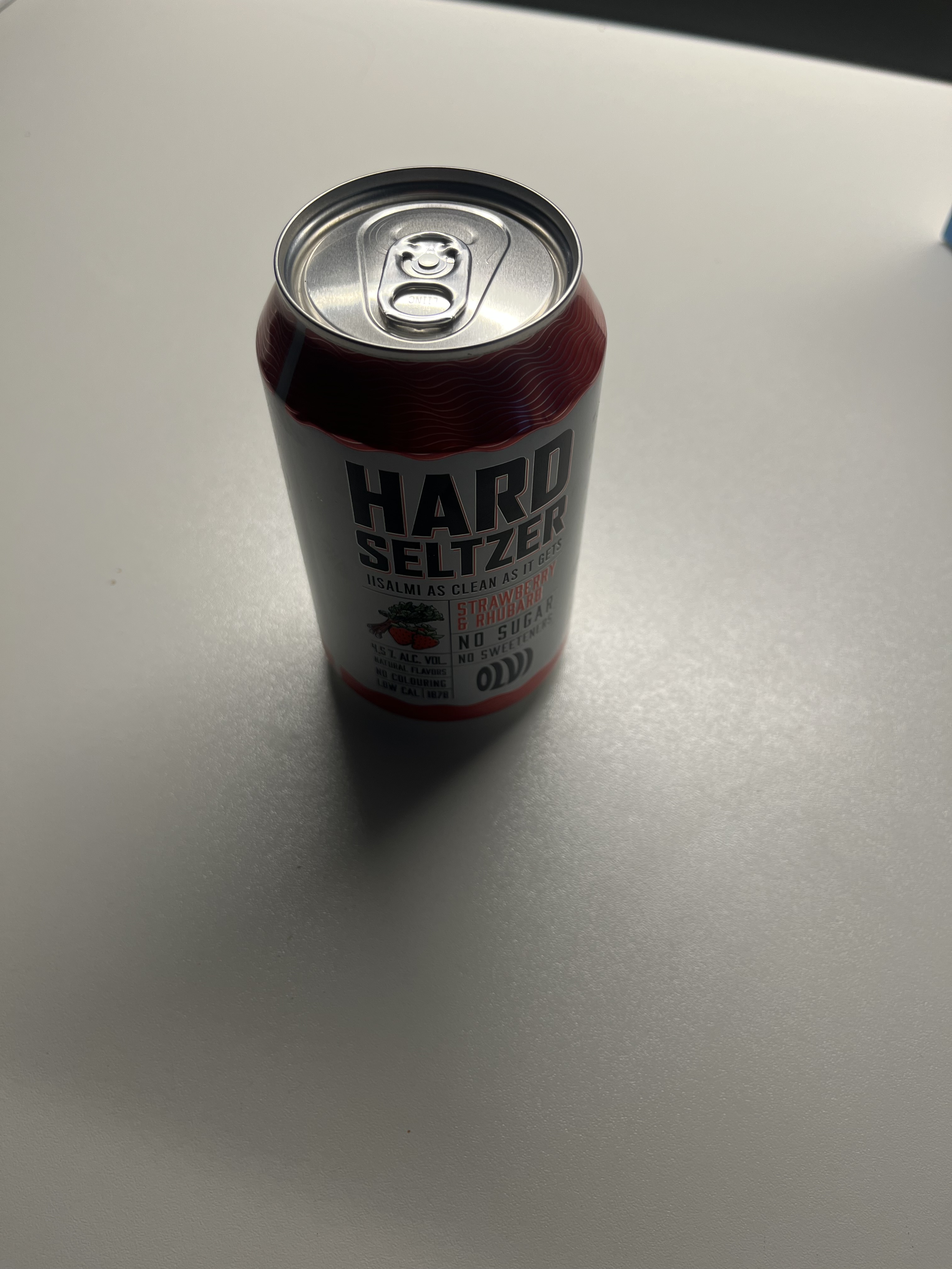Pantburk: (251, 156, 619, 724)
